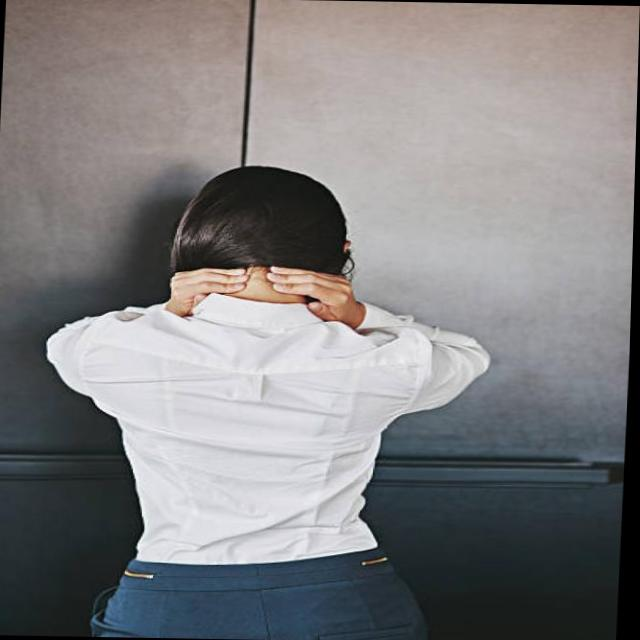no helmet: (170, 160, 366, 286)
